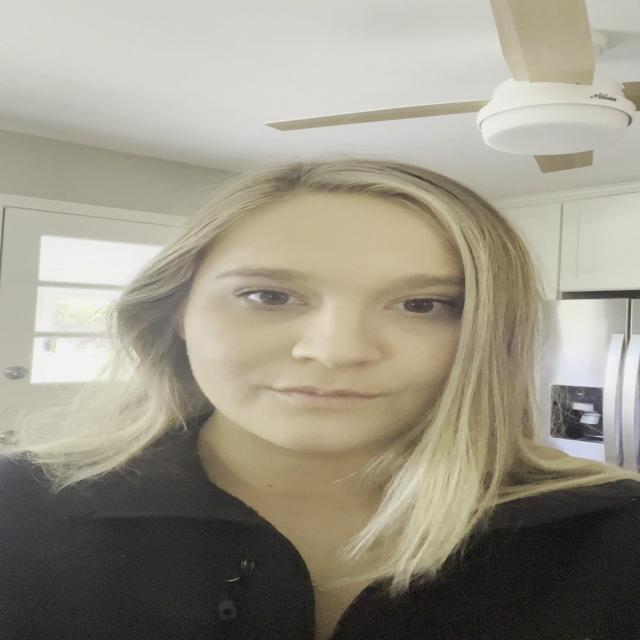no hat: (154, 176, 491, 477)
